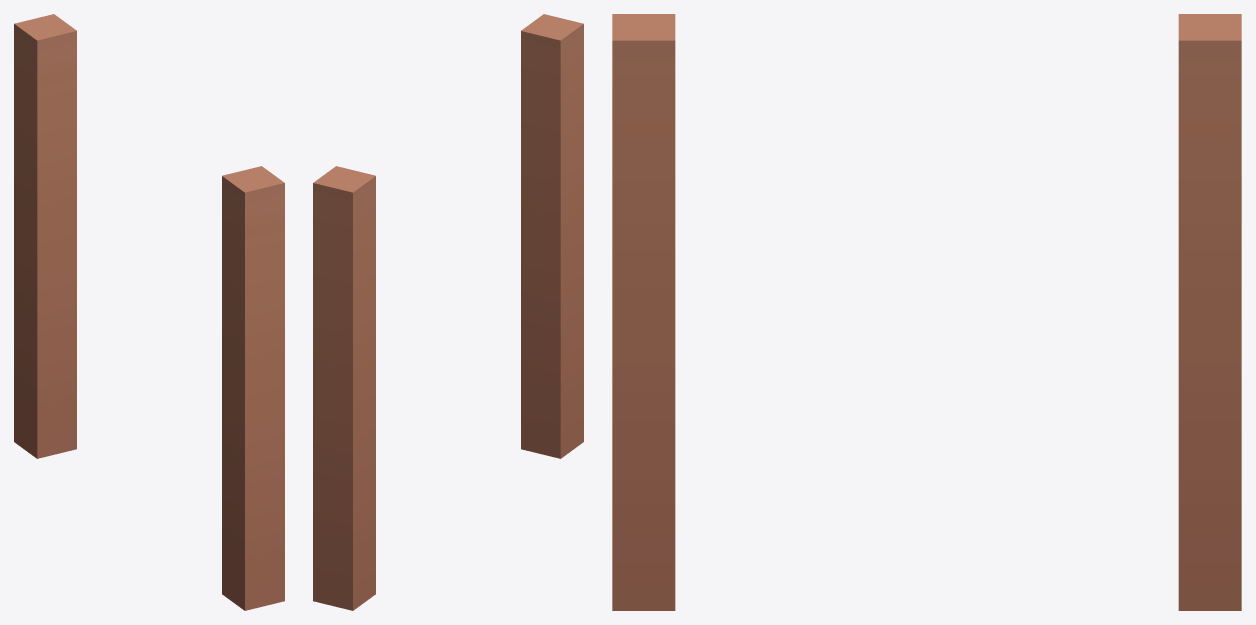
File: poles.glb
3 views of the same model, side by side, from view 1: azimuth 30°, elevation 25°; view 2: azimuth 150°, elevation 25°; view 3: azimuth 270°, elevation 25° (orthographic). The views are drawn at different scales.
Visible parts, largest first — view 1: poles; view 2: poles; view 3: poles.
Part boxes in pixels (x1,y1,x2,y2): poles: [14, 14, 284, 610]; poles: [313, 14, 583, 610]; poles: [612, 14, 1241, 610].
Size of the model in its own units: 0.1 by 1 by 1.
1 material, 1 textured.
